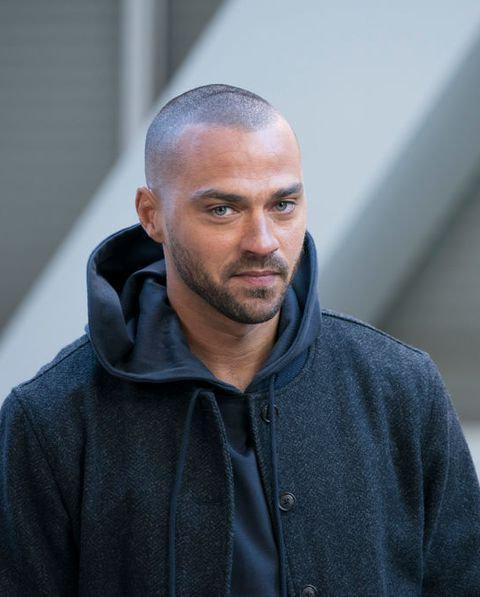Sober: (185, 127, 304, 316)
